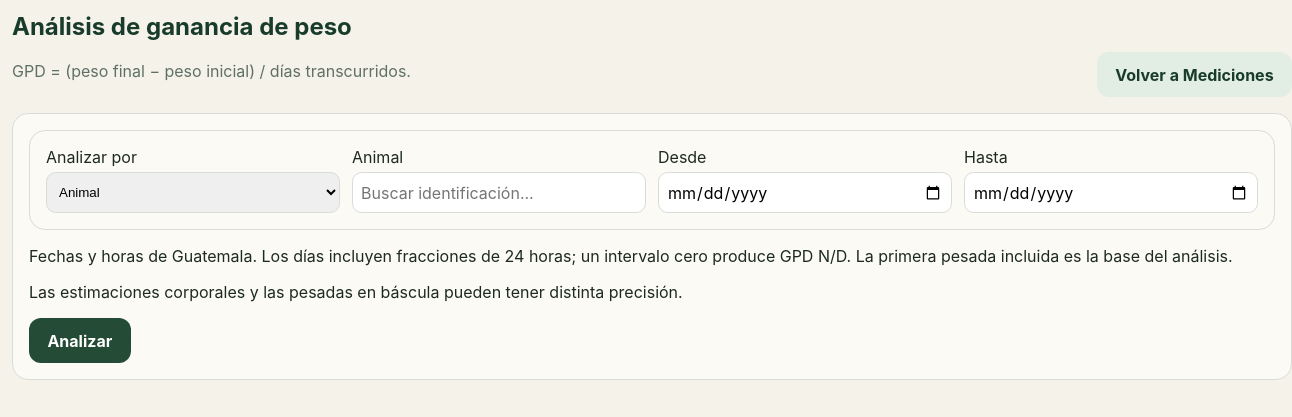
it: análisis de ganancia de peso › rechaza fechas invertidas sin consultar
Type "2026-09-12" into the date field labelled "Desde" at (805, 192), box [658,172,952,213]
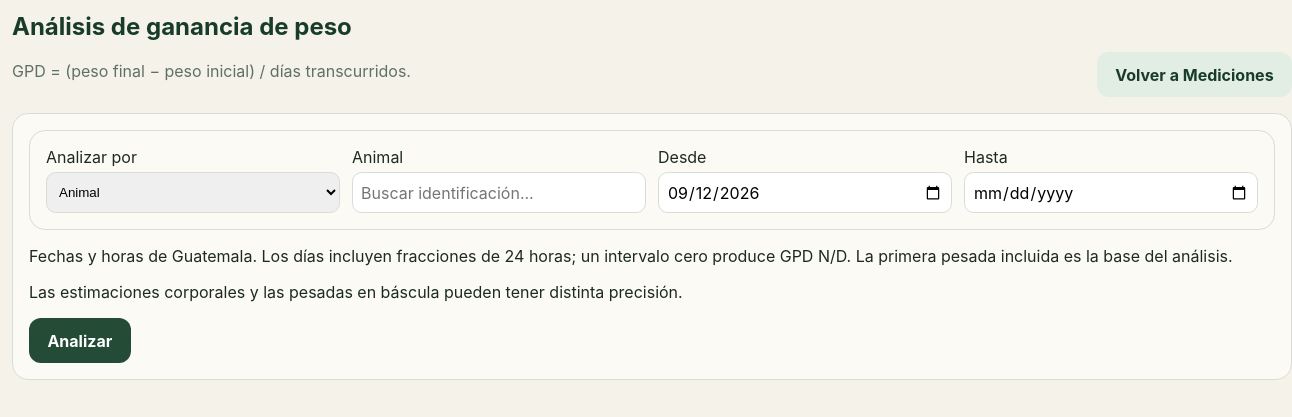
Type "2026-09-11" into the date field labelled "Hasta" at (1111, 192), box [964,172,1258,213]
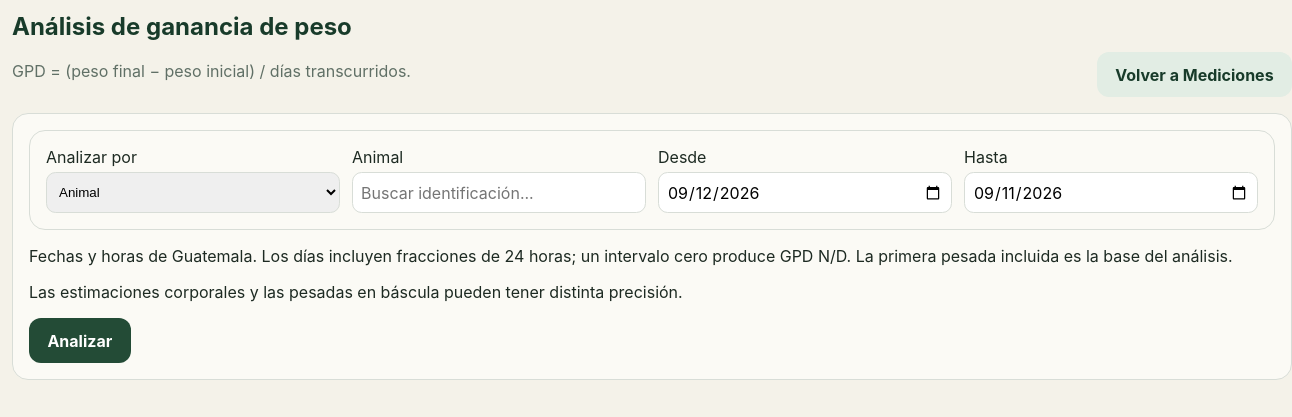
Click the button "Analizar" at (80, 341), box [29,318,131,363]
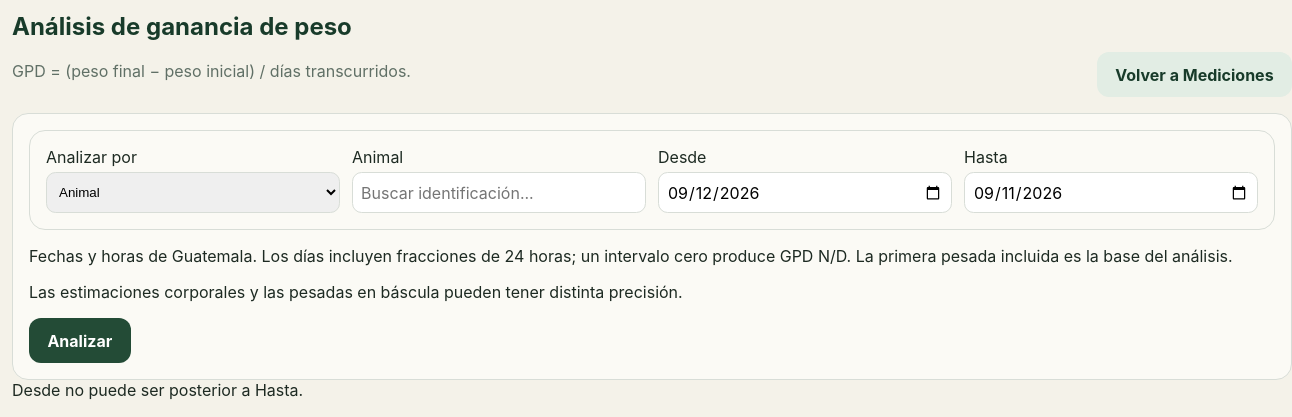
Now the message shows "Desde no puede ser posterior", box [12,380,303,400]
